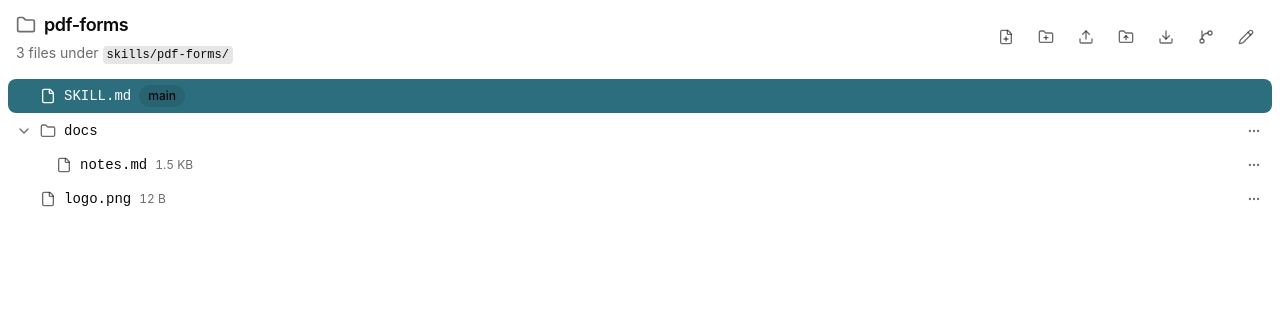
Test: FilesPanel › offers a file only Rename and Delete
Click the button named "Actions for logo.png" at (1254, 199), box 1240,185 -> 1268,213
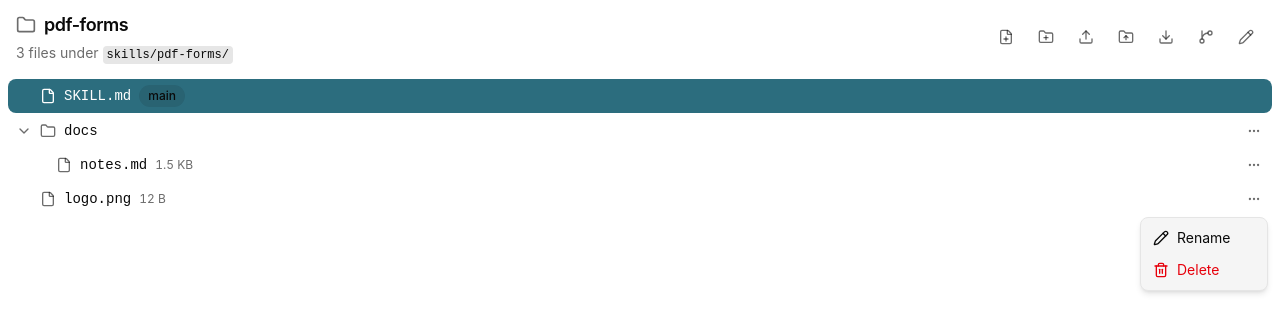
Expected: the menu items read "Rename", "Delete", in this order, 1153,229 -> 1230,246; 1153,261 -> 1219,278
